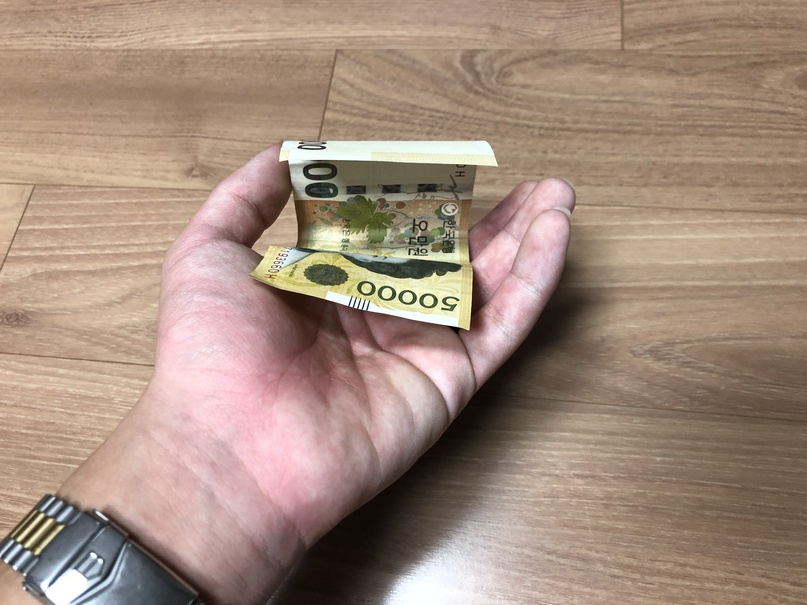50000won: (248, 140, 498, 330)
